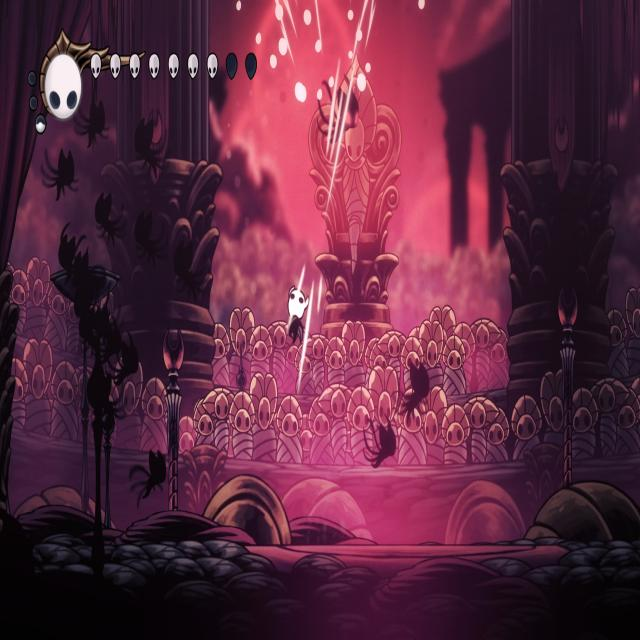Player: (284, 277, 314, 350)
Staggered_Grimm: (314, 67, 361, 150)
